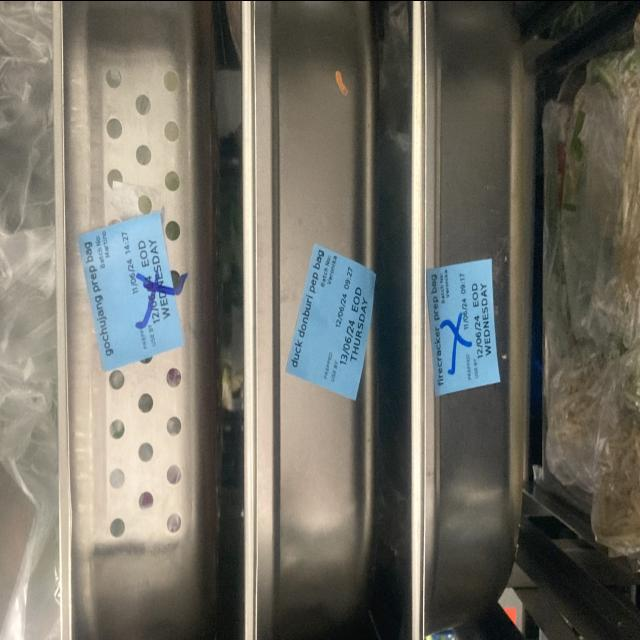product-labels: (77, 212, 188, 370), (281, 242, 380, 399), (424, 258, 501, 396)
